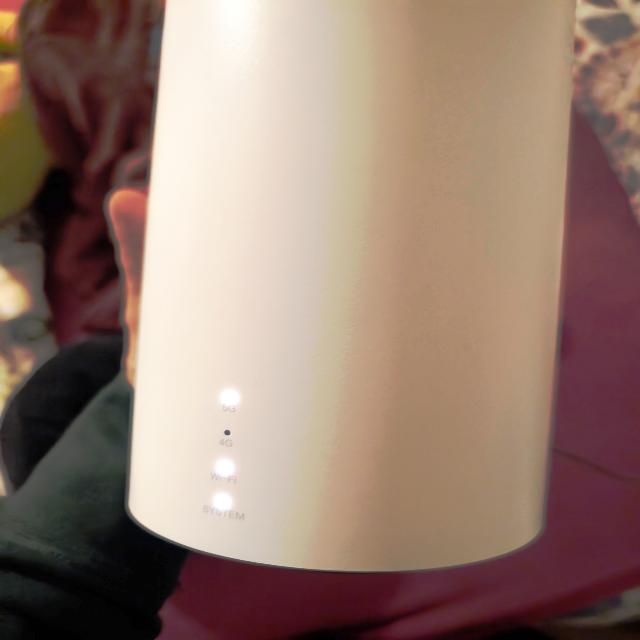modem: (141, 0, 562, 577)
off: (210, 422, 243, 454)
on: (204, 376, 252, 412), (200, 491, 244, 521), (206, 456, 249, 486)
